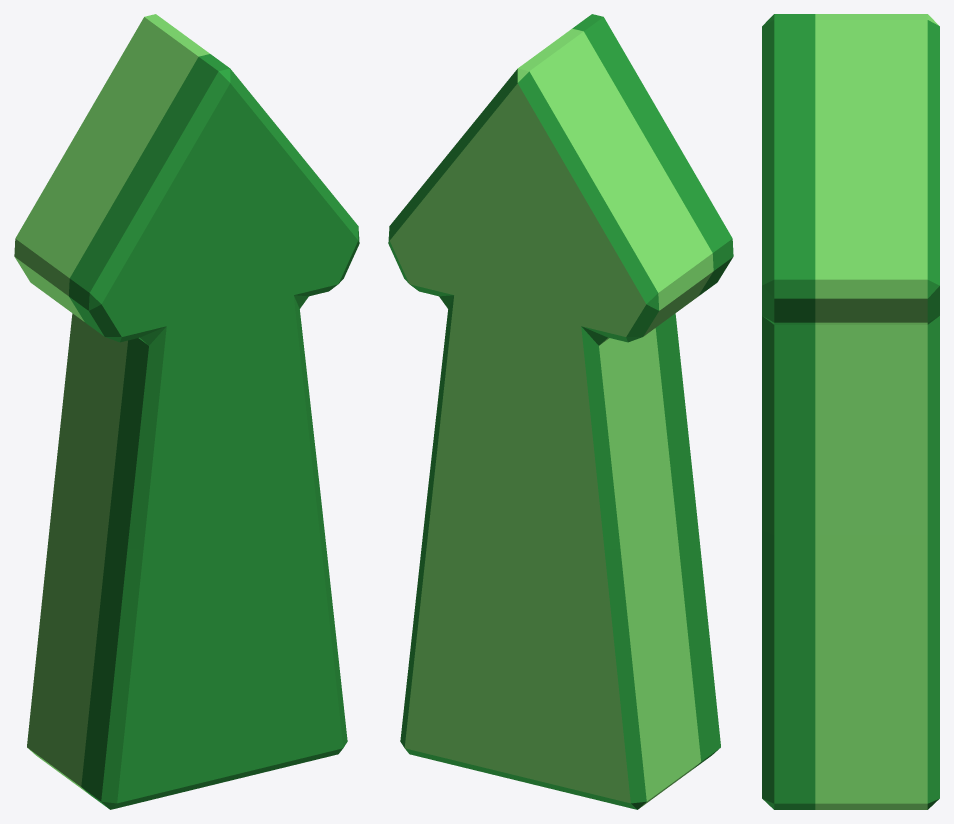
File: Arrow_Model.fbx
3 views of the same model, side by side, from view 1: azimuth 30°, elevation 25°; view 2: azimuth 150°, elevation 25°; view 3: azimuth 270°, elevation 25° (orthographic). The views are drawn at different scales.
Visible parts, largest first — view 1: Arrow; view 2: Arrow; view 3: Arrow.
Part boxes in pixels (box(x1,y1,x2,y2)): Arrow: box(14, 14, 359, 809); Arrow: box(388, 14, 733, 809); Arrow: box(762, 14, 939, 809).
Size of the model in its own units: 111 by 279 by 61.09.
